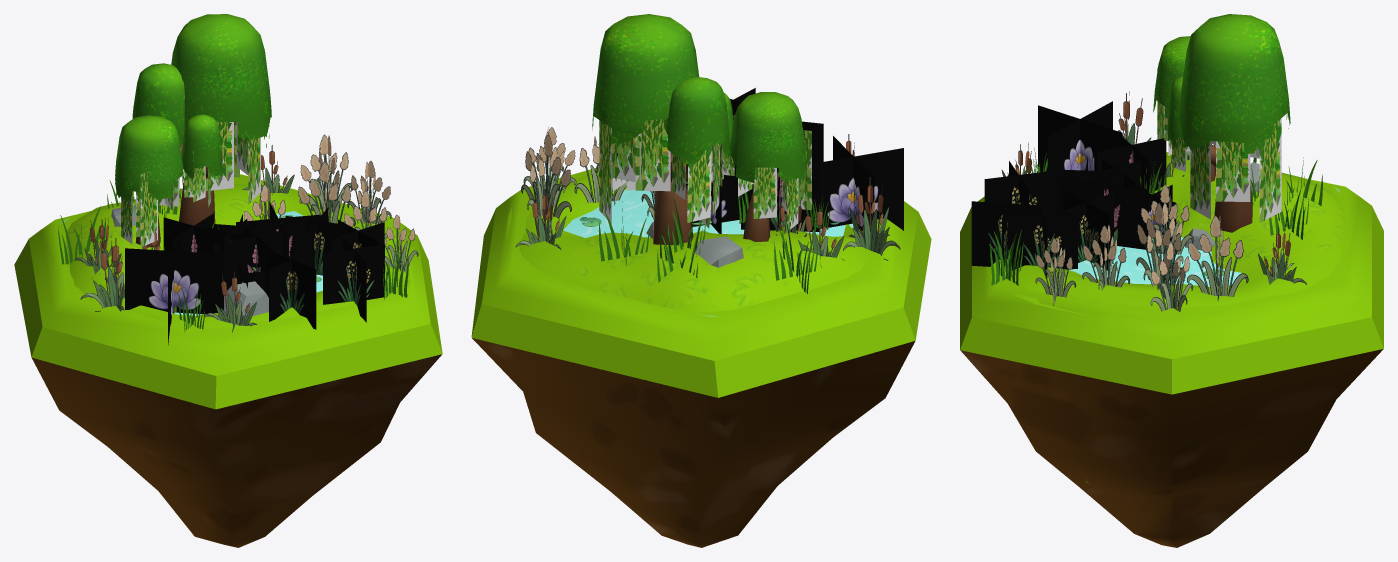
File: Advanced_Wetland.fbx
3 views of the same model, side by side, from view 1: azimuth 30°, elevation 25°; view 2: azimuth 150°, elevation 25°; view 3: azimuth 270°, elevation 25° (orthographic). The views are drawn at different scales.
Visible parts, largest first — view 1: polySurface1222; view 2: polySurface1222; view 3: polySurface1222.
Boxes of the visible parts, left/top/right/bottom form: polySurface1222: left=14, top=14, right=442, bottom=547; polySurface1222: left=471, top=14, right=931, bottom=547; polySurface1222: left=960, top=14, right=1383, bottom=547.
Size of the model in its own units: 11.53 by 13.85 by 9.99.
Materials: 11 (11 with a texture image).
